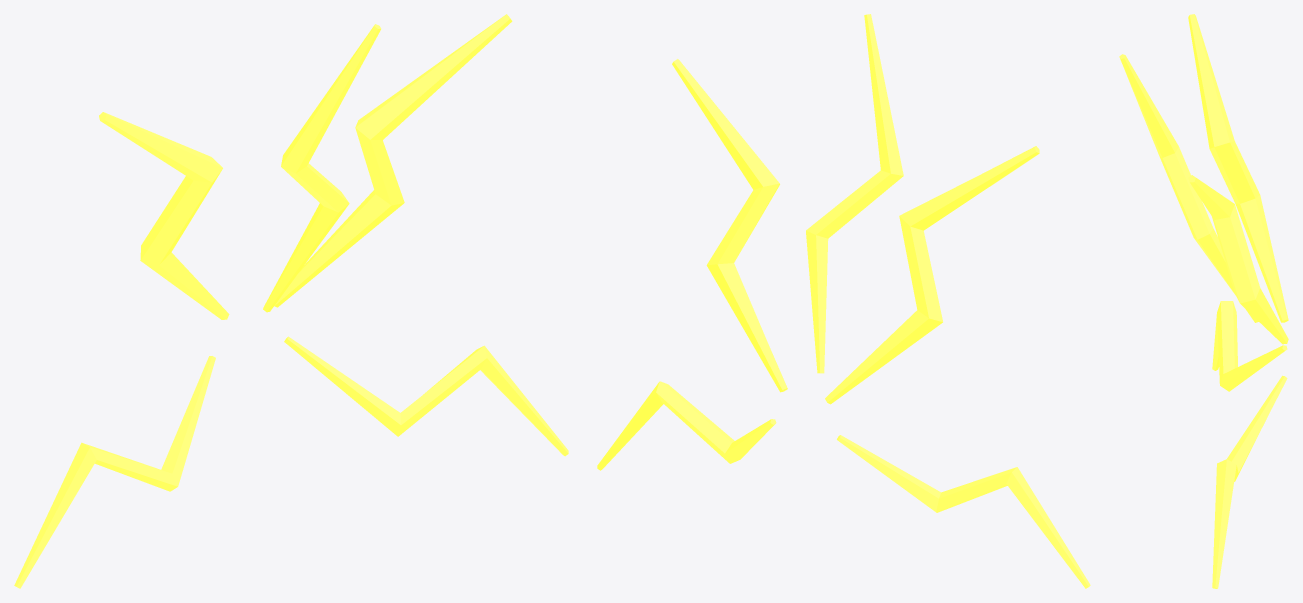
The model's file is PIP_SPARK_LEAP_FX.glb.
3 renders of one model, left to right at view 1: azimuth 30°, elevation 25°; view 2: azimuth 150°, elevation 25°; view 3: azimuth 270°, elevation 25°, orthographic. The views are drawn at different scales.
Visible parts, largest first — view 1: Pip_Spark_OptionalHandDischarge; view 2: Pip_Spark_OptionalHandDischarge; view 3: Pip_Spark_OptionalHandDischarge.
Boxes of the visible parts, x1=… form: Pip_Spark_OptionalHandDischarge: x1=14, y1=14, x2=568, y2=588; Pip_Spark_OptionalHandDischarge: x1=597, y1=14, x2=1090, y2=588; Pip_Spark_OptionalHandDischarge: x1=1119, y1=14, x2=1288, y2=588.
Bounding box in the file's own units: 0.226 × 0.2074 × 0.073.
